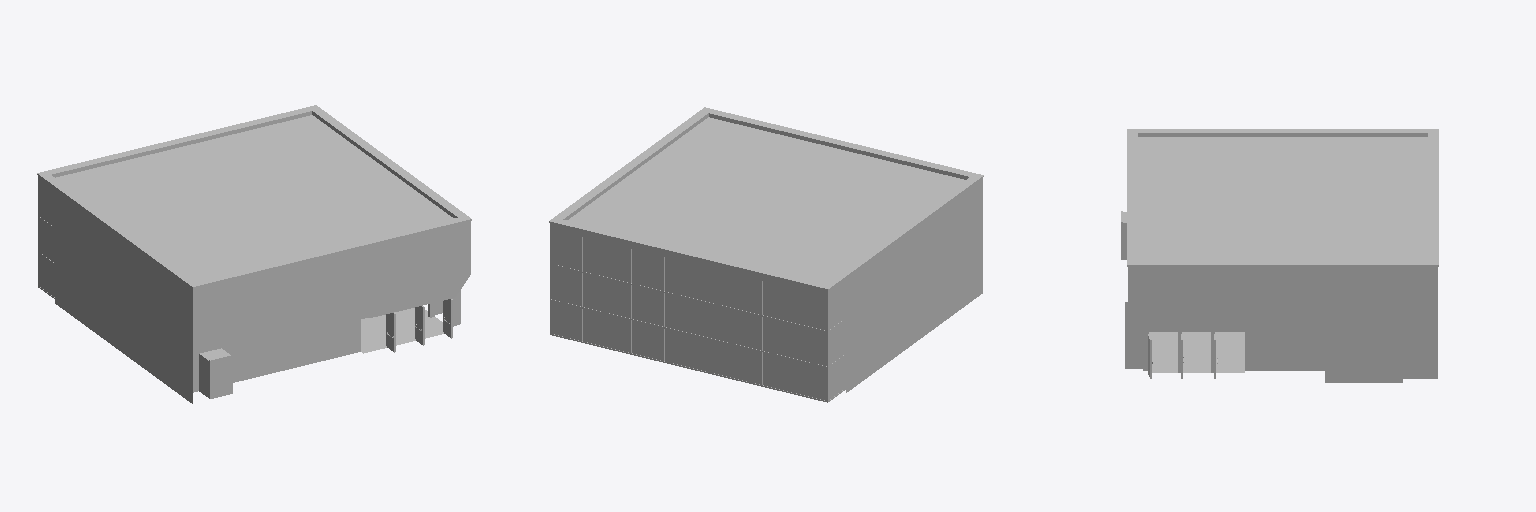
File: MITMediaLab expo room.obj
3 views of the same model, side by side, from view 1: azimuth 30°, elevation 25°; view 2: azimuth 150°, elevation 25°; view 3: azimuth 270°, elevation 25° (orthographic).
Parts seen in each view (by area): view 1: roofTop.008, ExhibitRoom_ExteriorShell.003, ExhibitRoom_ExteriorShell.002, ExhibitRoom_Interior.044, ExhibitRoom_InteriorFloor.002, windowPanes.003; view 2: roofTop.008, windowPanes.003, ExhibitRoom_ExteriorShell.003, ExhibitRoom_ExteriorShell.002, struts6.001; view 3: roofTop.008, ExhibitRoom_ExteriorShell.003, ExhibitRoom_ExteriorShell.002, ExhibitRoom_Interior.043, ExhibitRoom_InteriorFloor.002, windowPanes.003, struts6.001, door.044.
Boxes of the visible parts, x1,y1,x2,y2 form: roofTop.008: [56, 115, 453, 280]; ExhibitRoom_ExteriorShell.003: [38, 176, 470, 403]; ExhibitRoom_ExteriorShell.002: [37, 105, 471, 288]; ExhibitRoom_Interior.044: [193, 319, 360, 390]; ExhibitRoom_InteriorFloor.002: [361, 308, 443, 353]; windowPanes.003: [40, 183, 54, 296]; roofTop.008: [567, 117, 964, 282]; windowPanes.003: [551, 230, 844, 400]; ExhibitRoom_ExteriorShell.003: [550, 178, 982, 392]; ExhibitRoom_ExteriorShell.002: [549, 107, 983, 290]; struts6.001: [550, 228, 845, 402]; roofTop.008: [1138, 137, 1427, 260]; ExhibitRoom_ExteriorShell.003: [1128, 267, 1437, 382]; ExhibitRoom_ExteriorShell.002: [1127, 129, 1438, 266]; ExhibitRoom_Interior.043: [1143, 307, 1324, 368]; ExhibitRoom_InteriorFloor.002: [1149, 332, 1244, 372]; windowPanes.003: [1404, 273, 1433, 376]; struts6.001: [1402, 272, 1437, 378]; door.044: [1125, 330, 1138, 368].
Size of the model in its own units: 20.36 by 8.19 by 20.04.